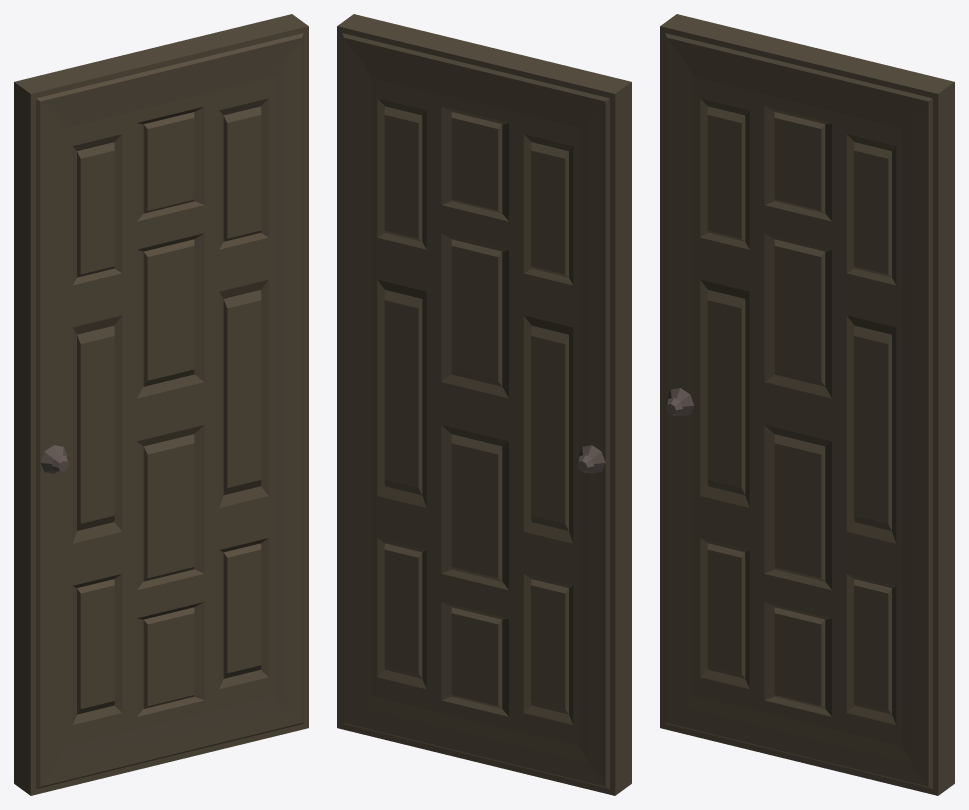
The model's file is Door_5.gltf.
The picture shows the model from 3 angles, left to right: view 1: azimuth 30°, elevation 25°; view 2: azimuth 150°, elevation 25°; view 3: azimuth 330°, elevation 25°; orthographic projection.
Visible parts, largest first — view 1: Door_5; view 2: Door_5; view 3: Door_5.
Boxes of the visible parts, left/top/right/bottom form: Door_5: left=14, top=14, right=308, bottom=795; Door_5: left=337, top=14, right=631, bottom=795; Door_5: left=660, top=14, right=954, bottom=795.
Size of the model in its own units: 1.74 by 4.2 by 0.4211.
